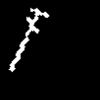double_crochet: (9, 8, 48, 71)
